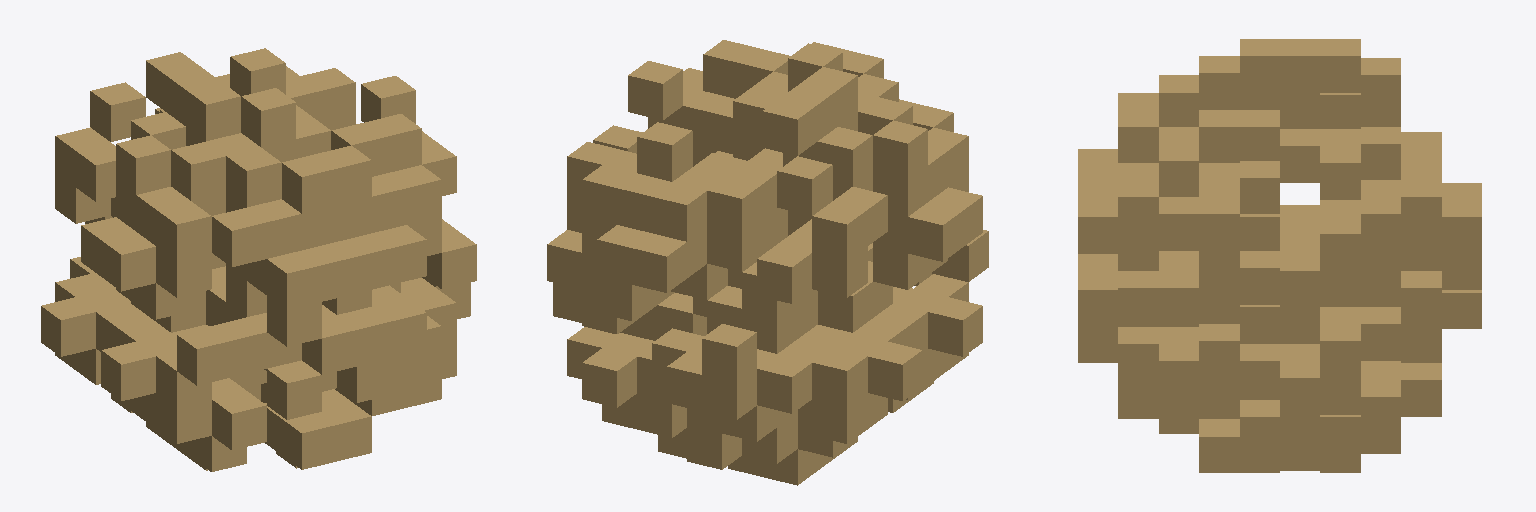
The picture shows the model from 3 angles: view 1: azimuth 30°, elevation 25°; view 2: azimuth 150°, elevation 25°; view 3: azimuth 270°, elevation 25°; orthographic projection.
Parts seen in each view (by area): view 1: object 1; view 2: object 1; view 3: object 1.
Part boxes in pixels (bbox=[...]): object 1: bbox=[41, 48, 476, 471]; object 1: bbox=[547, 40, 988, 485]; object 1: bbox=[1078, 39, 1481, 472].
Bounding box in the file's own units: 1 × 1 × 1.
Materials: 1 (1 with a texture image).